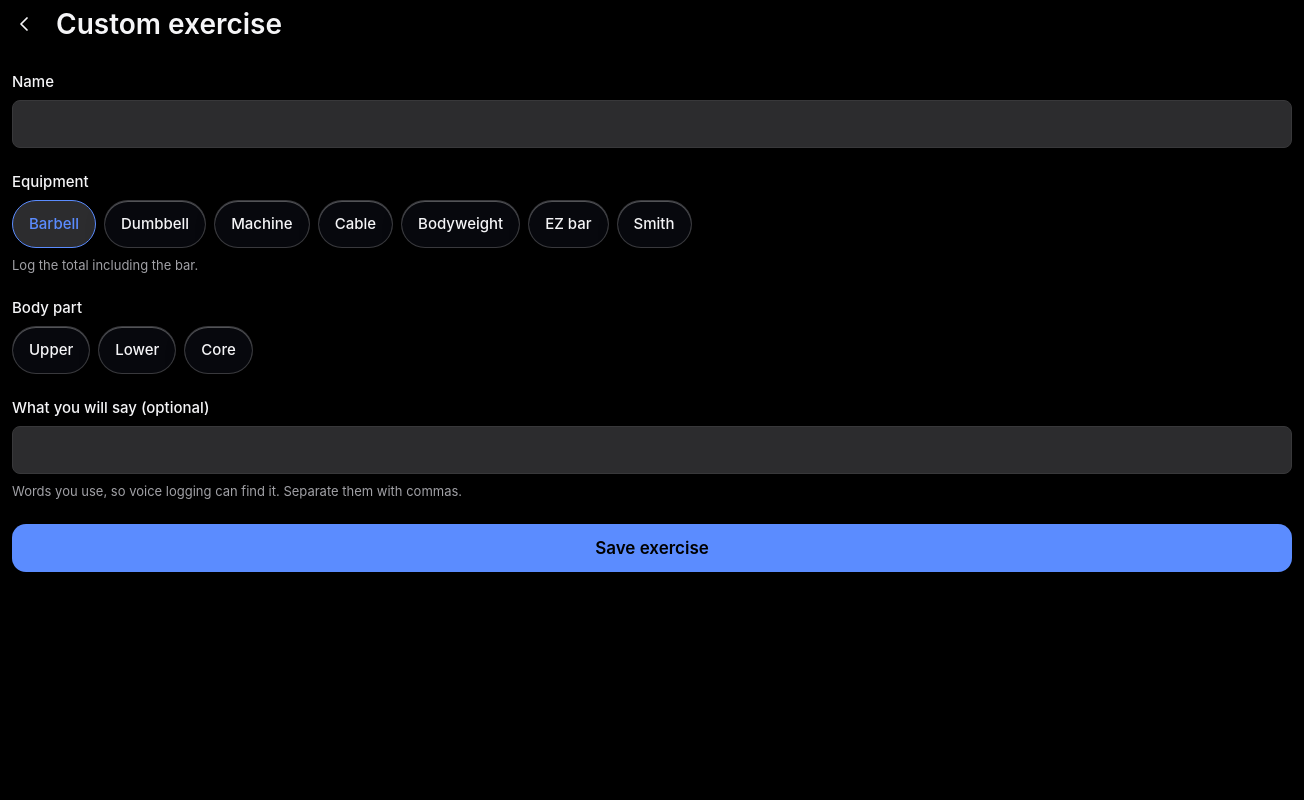
Test: CustomExercisePage › explains what to log for Cable
Click the button "Cable".
click(355, 224)  # box [318, 200, 393, 248]
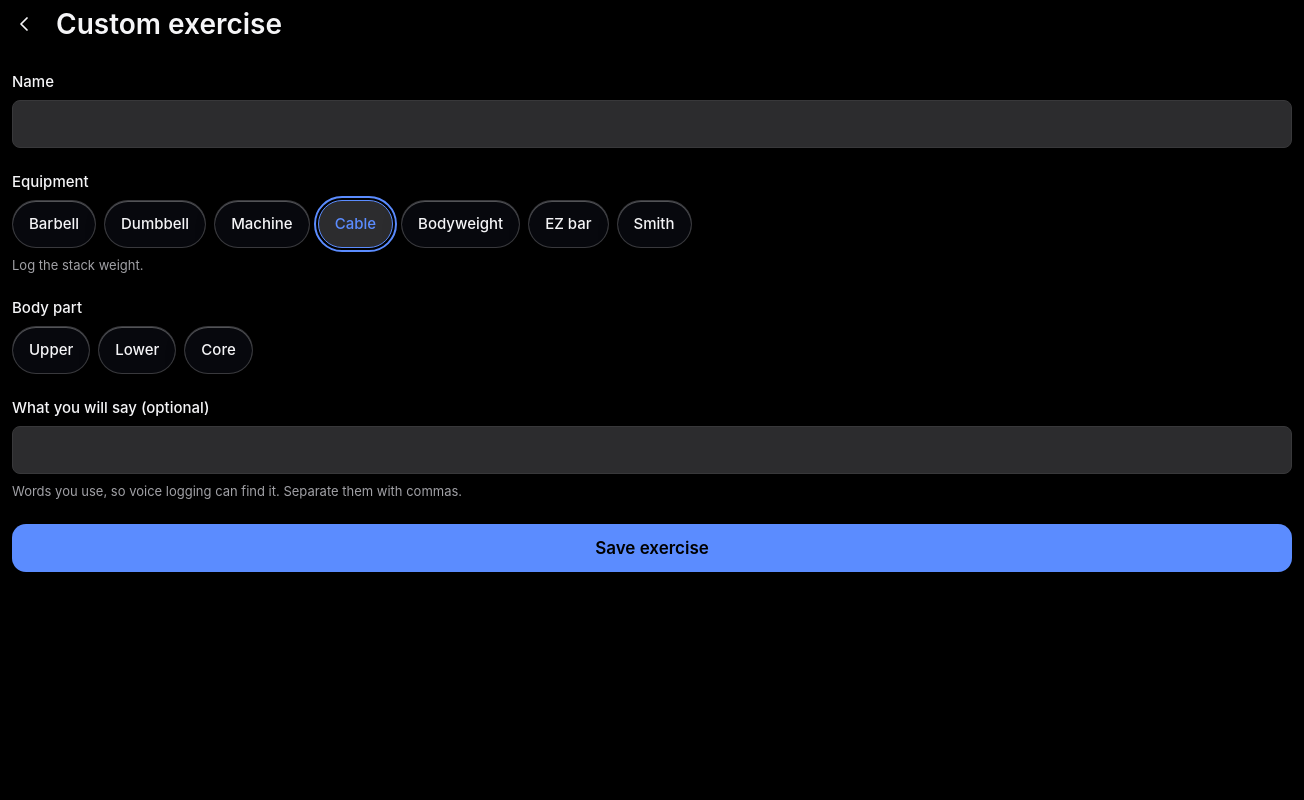
Check: the text "Log the stack weight." is shown, box [12, 257, 143, 273]
